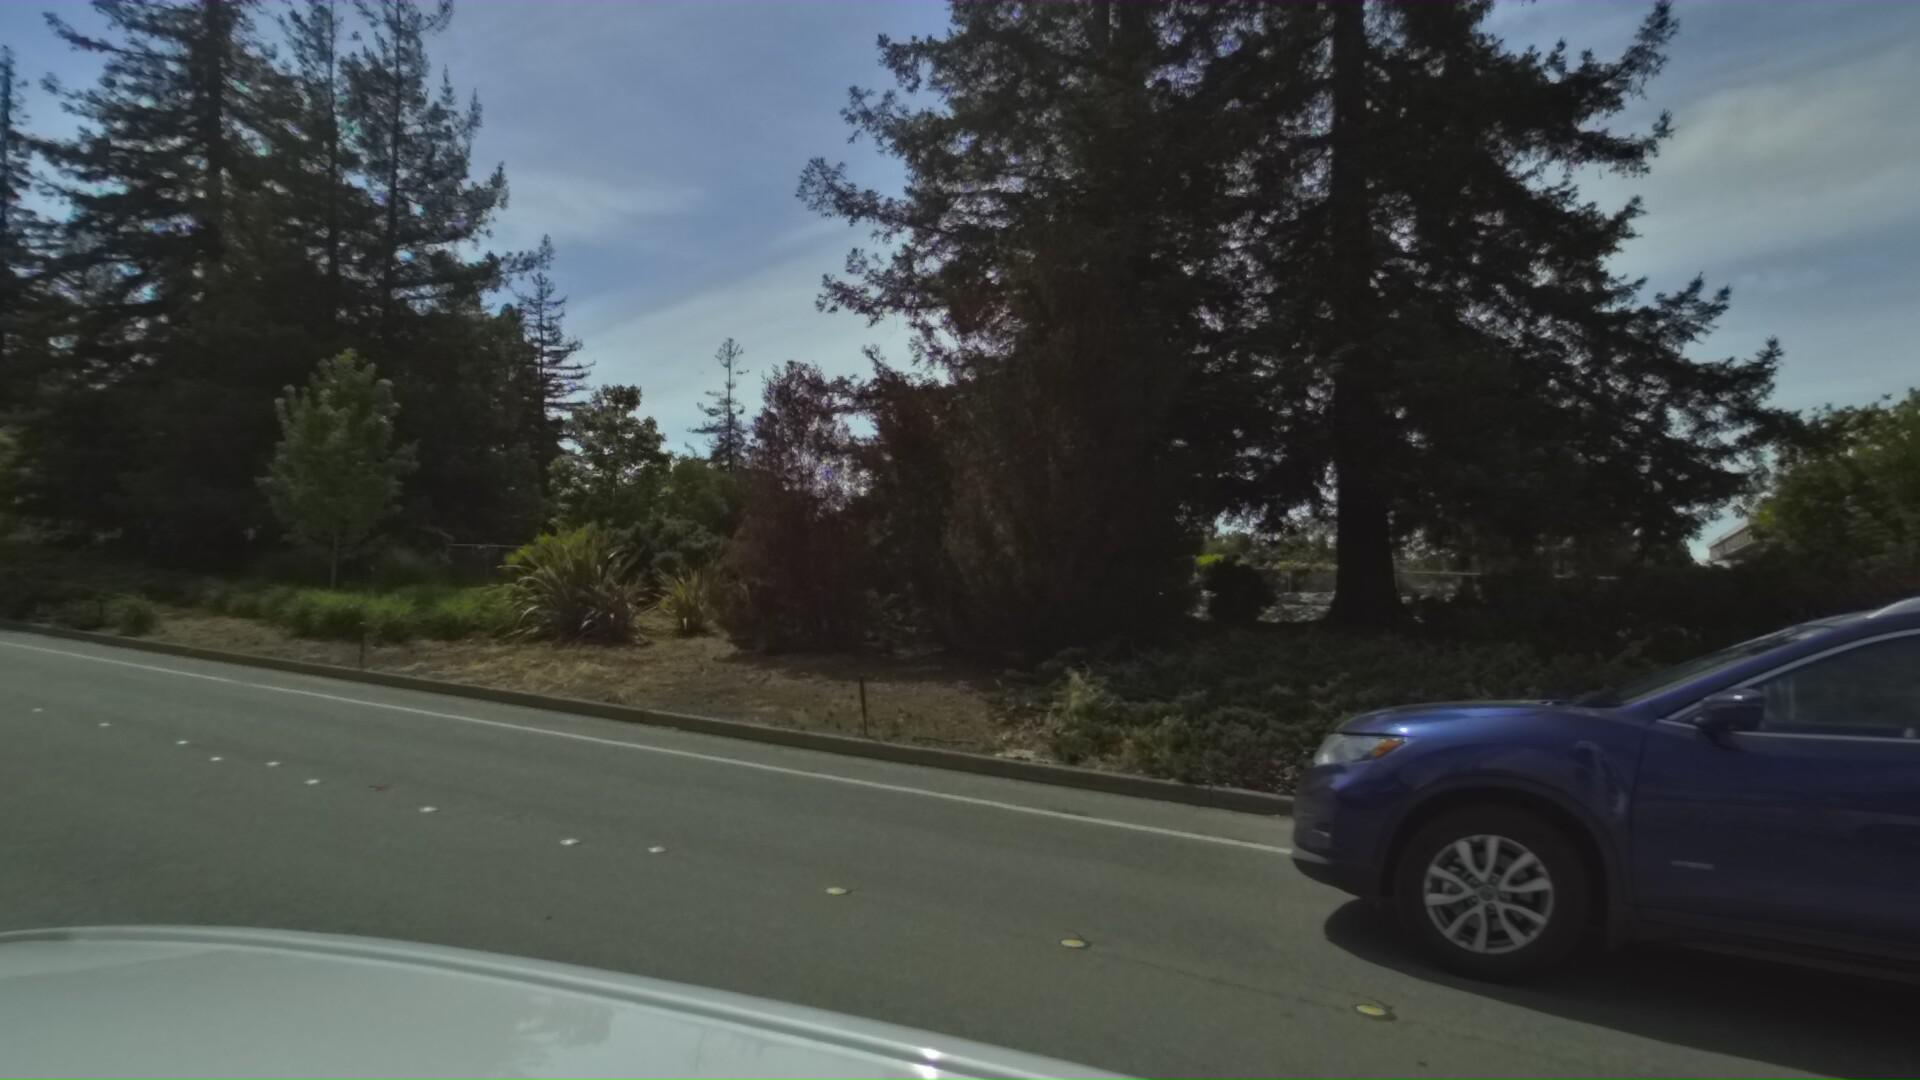car: (986, 524, 1920, 1080)
